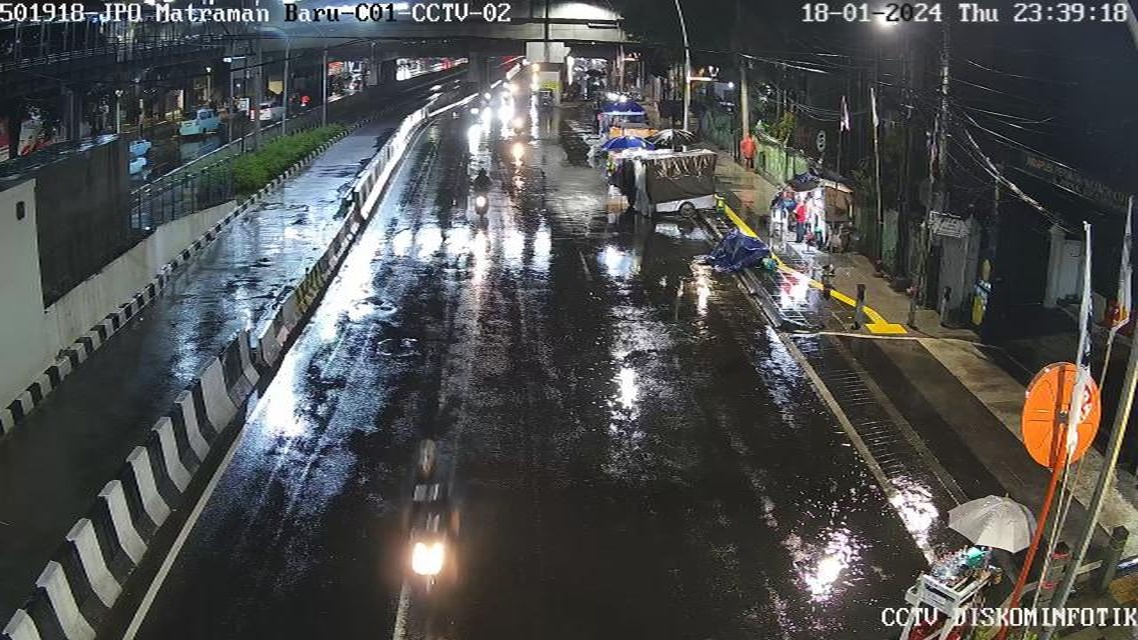Gerobak: (875, 546, 1005, 640)
